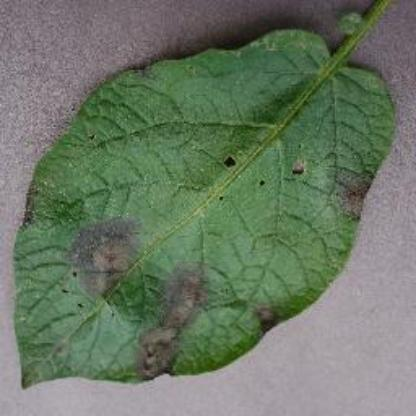Late-Blight: (17, 5, 399, 393)
